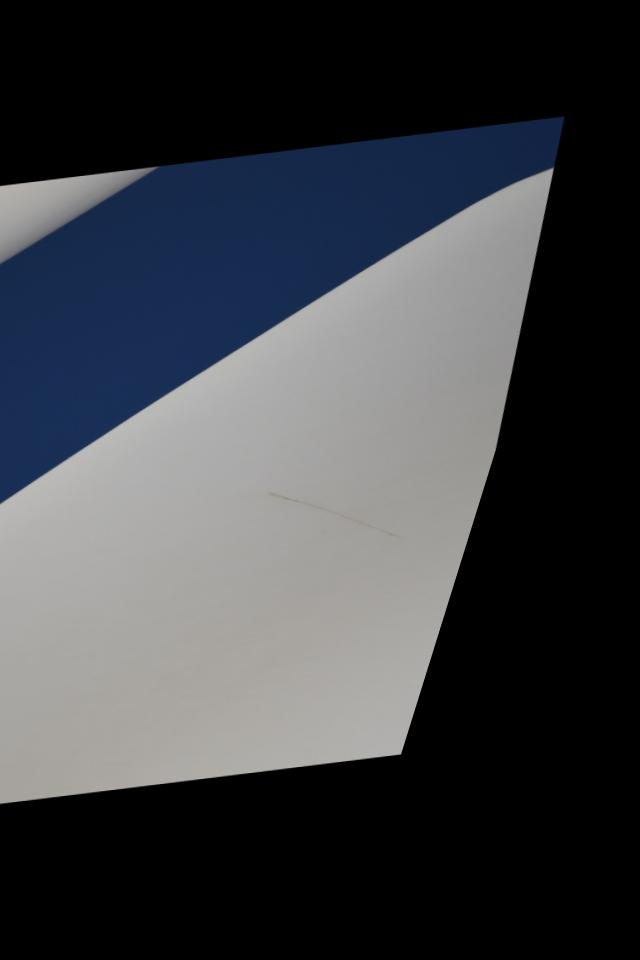damage: (284, 479, 449, 557)
